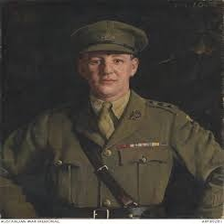no_mask: (81, 54, 132, 96)
